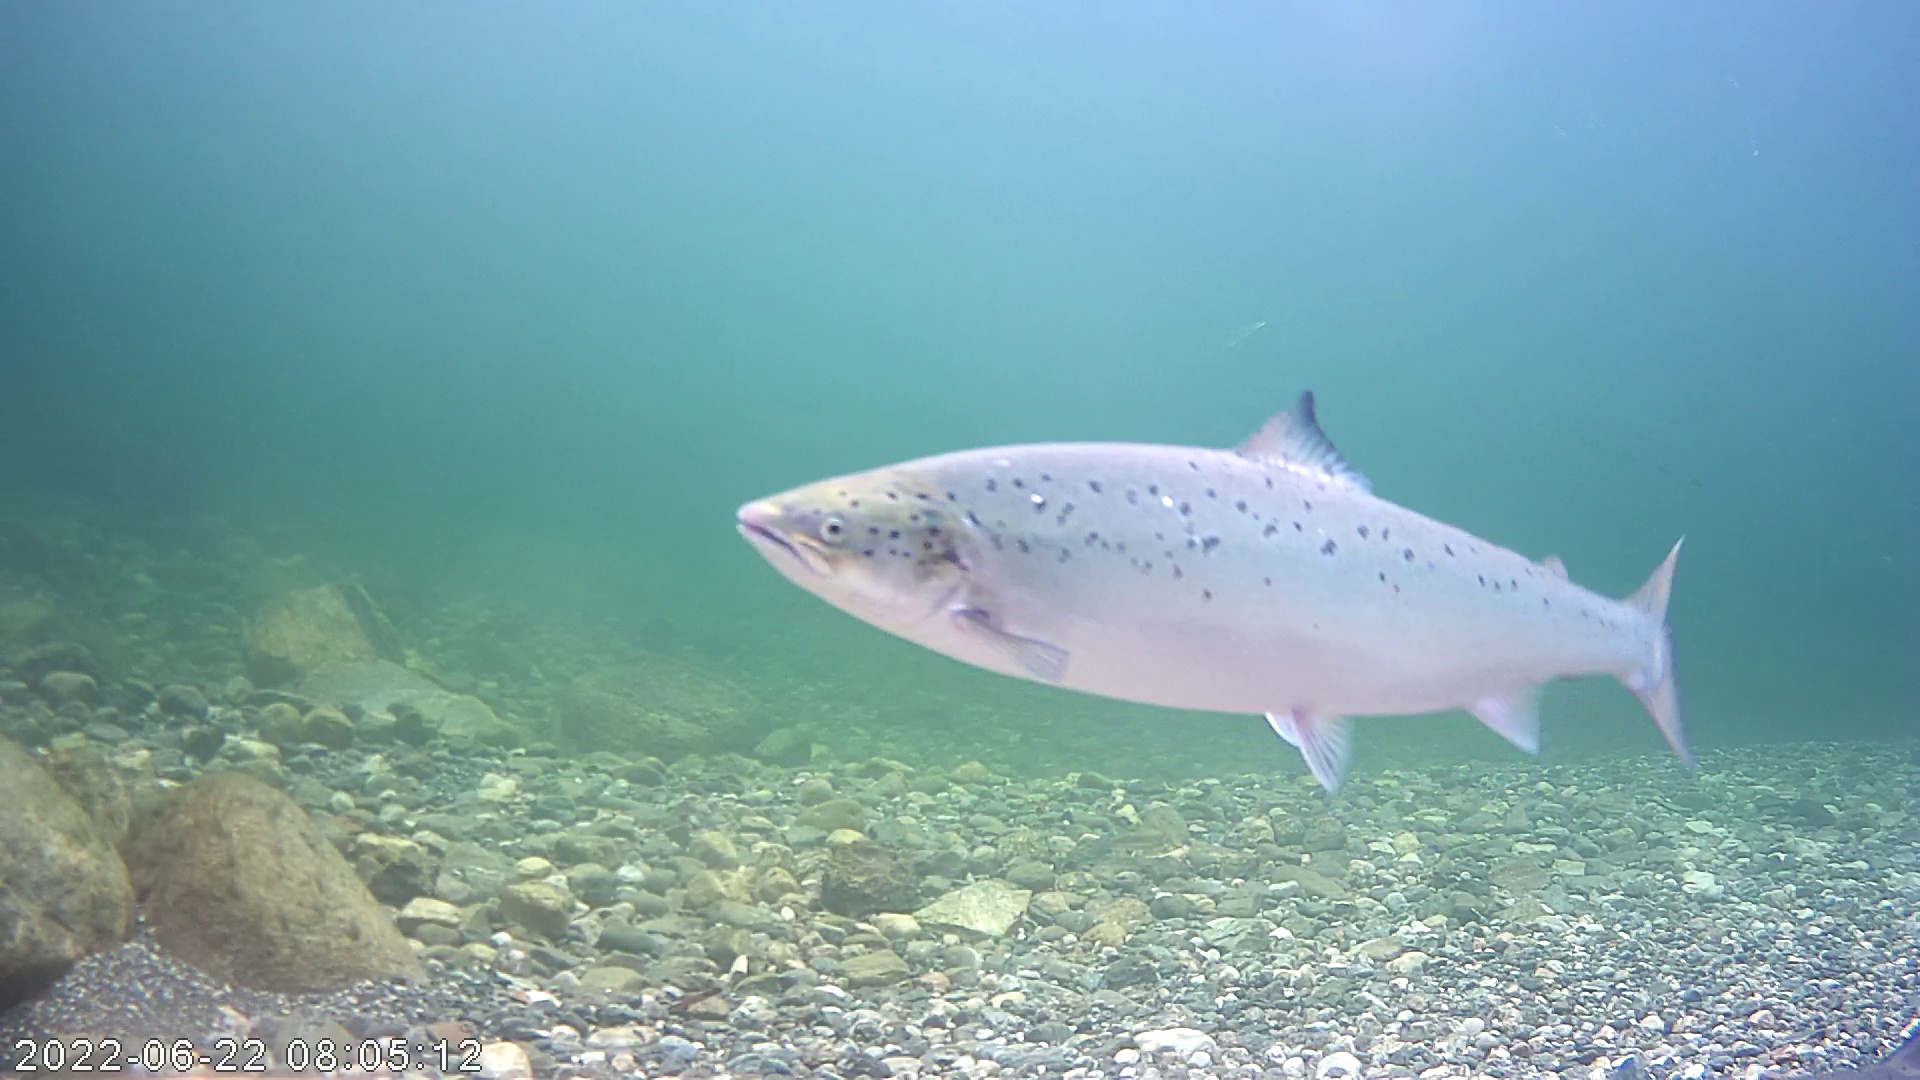salmon: (727, 386, 1698, 793)
